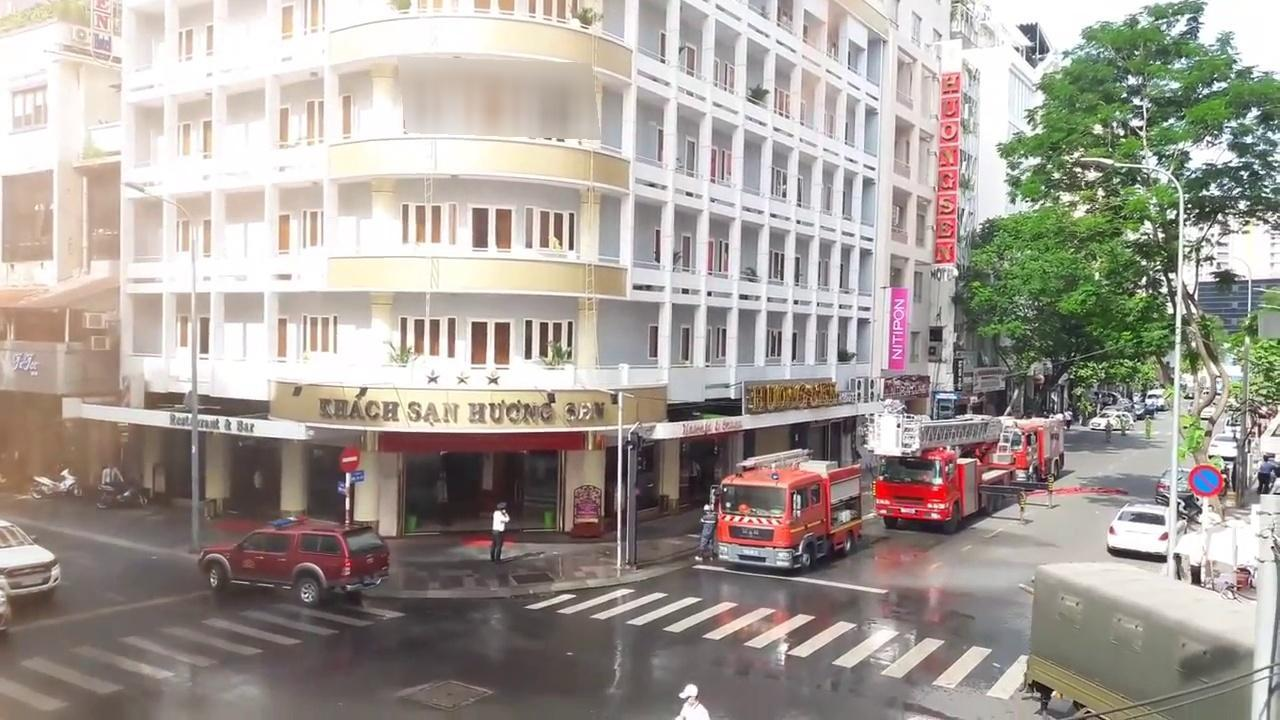xe cuu hoa: (865, 411, 1020, 531), (718, 448, 862, 573), (979, 417, 1062, 493)
xe hoi: (201, 514, 383, 595), (0, 516, 61, 603), (1105, 503, 1187, 558), (1153, 464, 1203, 506)
xe tai: (1023, 560, 1280, 719)
